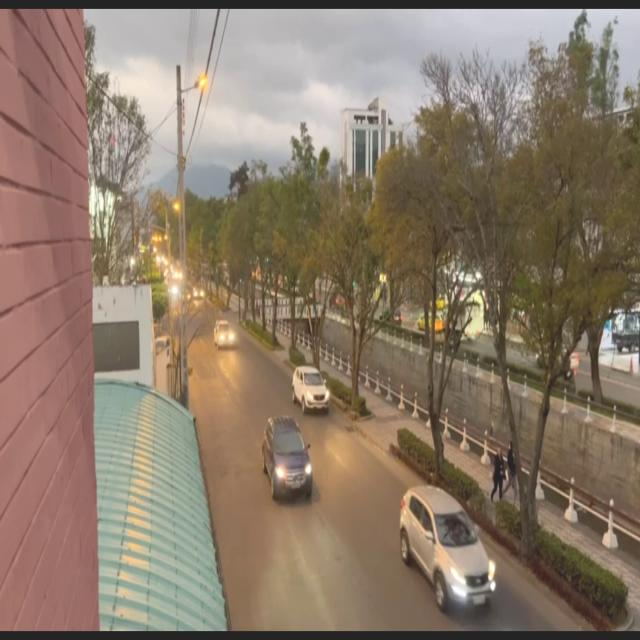SUV: (403, 493, 492, 606), (264, 421, 310, 499), (295, 369, 329, 413), (214, 320, 233, 348)
